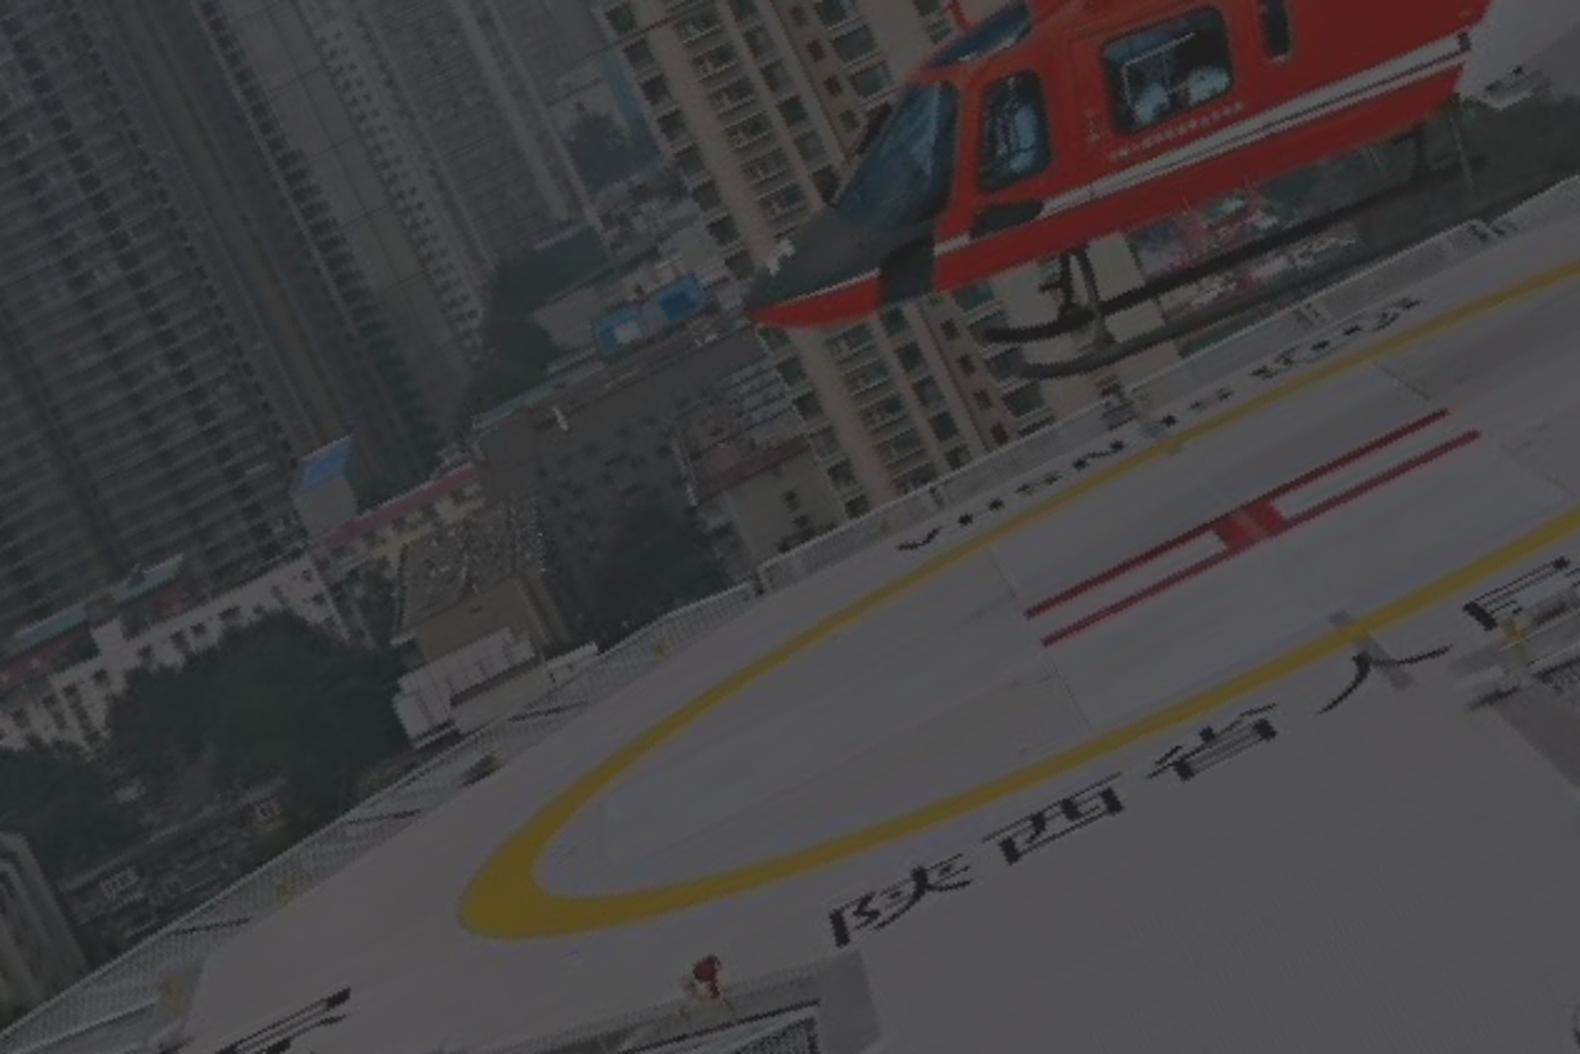Apron: (444, 249, 1580, 961)
